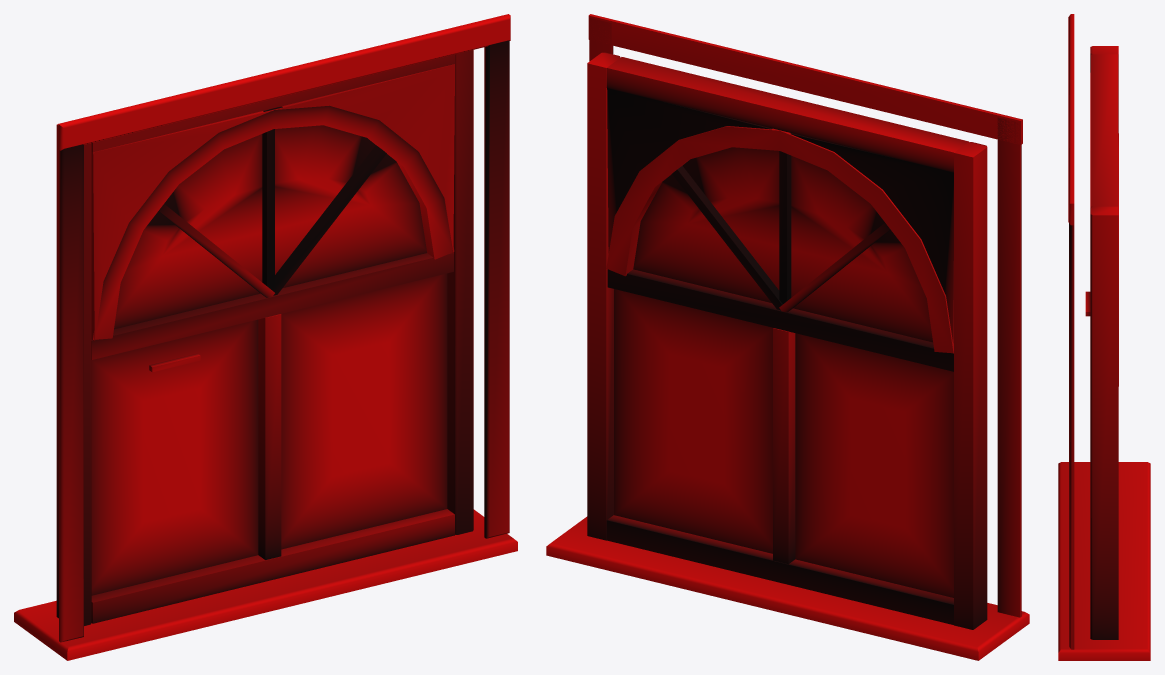
Rendered from CI_Shell_Window_RoundTop.glb.
3 views of the same model, side by side, from view 1: azimuth 30°, elevation 25°; view 2: azimuth 150°, elevation 25°; view 3: azimuth 270°, elevation 25° (orthographic). The views are drawn at different scales.
Parts seen in each view (by area): view 1: CI_Shell_Window_RoundTop; view 2: CI_Shell_Window_RoundTop; view 3: CI_Shell_Window_RoundTop.
Part boxes in pixels (x1,y1,x2,y2): CI_Shell_Window_RoundTop: (14,14,517,660); CI_Shell_Window_RoundTop: (546,14,1029,660); CI_Shell_Window_RoundTop: (1058,14,1150,660).
Bounding box in the file's own units: 1.12 × 1.26 × 0.23.
